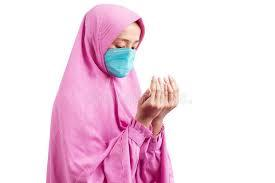Wearing Mask: (80, 1, 146, 81)
